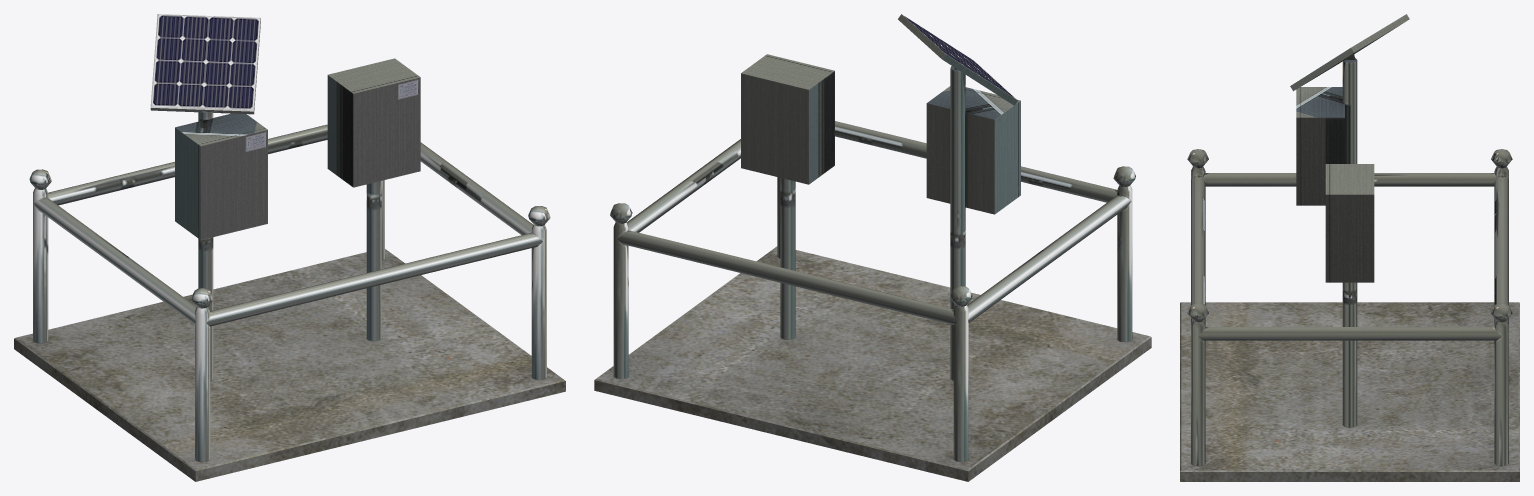
File: WaterQuality.gltf
3 renders of one model, left to right at view 1: azimuth 30°, elevation 25°; view 2: azimuth 150°, elevation 25°; view 3: azimuth 270°, elevation 25°, orthographic. The views are drawn at different scales.
Visible parts, largest first — view 1: WaterQuality; view 2: WaterQuality; view 3: WaterQuality.
Boxes of the visible parts, box(x1,y1,x2,y2) form: WaterQuality: box(14, 14, 565, 481); WaterQuality: box(594, 14, 1151, 481); WaterQuality: box(1180, 14, 1519, 481).
Bounding box in the file's own units: 33 × 30.59 × 28.
1 material, 1 textured.
